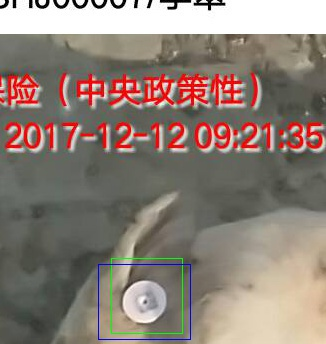text: (111, 258, 182, 333)
